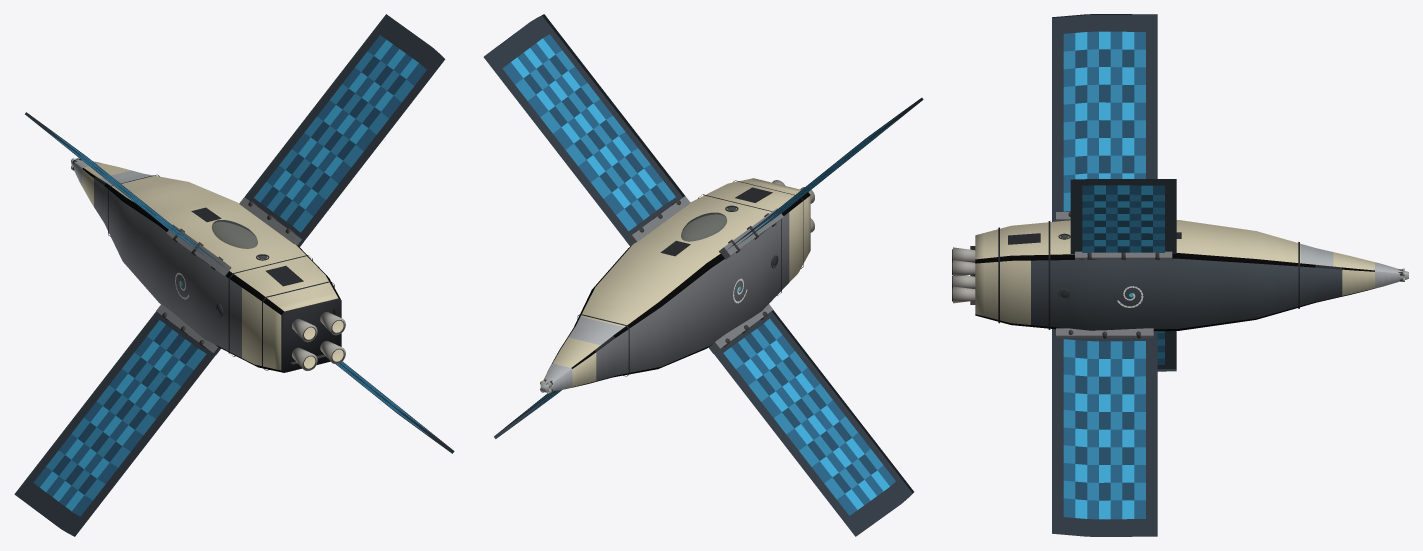
The model's file is Ship_Crosspanel_16.glb.
3 renders of one model, left to right at view 1: azimuth 30°, elevation 25°; view 2: azimuth 150°, elevation 25°; view 3: azimuth 270°, elevation 25°, orthographic. The views are drawn at different scales.
Visible parts, largest first — view 1: Fuselage_SquareBody, SolarPanelWing_TopRightRidge_RectangularPhotovoltaicGrid, SolarPanelWing_LowerLeftRidge_RectangularPhotovoltaicGrid, Nose_SquareTaperedForwardSection, SolarPanelWing_TopLeftRidge_RectangularPhotovoltaicGrid, Canopy_DorsalLowSquareBubble, SolarPanelWing_LowerRightRidge_RectangularPhotovoltaicGrid, SolarPanelWing_TopLeftRidge_RootHingeClamp, SolarPanelWing_TopRightRidge_RootHingeClamp, SolarPanelWing_LowerLeftRidge_RootHingeClamp; view 2: Fuselage_SquareBody, SolarPanelWing_TopRightRidge_RectangularPhotovoltaicGrid, SolarPanelWing_LowerLeftRidge_RectangularPhotovoltaicGrid, Nose_SquareTaperedForwardSection, SolarPanelWing_TopLeftRidge_RectangularPhotovoltaicGrid, Canopy_DorsalLowSquareBubble, SolarPanelWing_TopLeftRidge_RootHingeClamp, SolarPanelWing_TopRightRidge_RootHingeClamp, SolarPanelWing_LowerLeftRidge_RootHingeClamp; view 3: Fuselage_SquareBody, SolarPanelWing_LowerRightRidge_RectangularPhotovoltaicGrid, SolarPanelWing_TopLeftRidge_RectangularPhotovoltaicGrid, SolarPanelWing_TopRightRidge_RectangularPhotovoltaicGrid, Nose_SquareTaperedForwardSection, SolarPanelWing_LowerRightRidge_RootHingeClamp, SolarPanelWing_LowerLeftRidge_RectangularPhotovoltaicGrid, SolarPanelWing_TopRightRidge_RootHingeClamp.
Part boxes in pixels (x1=…): Fuselage_SquareBody: x1=104, y1=174, x2=341, y2=372; SolarPanelWing_TopRightRidge_RectangularPhotovoltaicGrid: x1=245, y1=14, x2=445, y2=247; SolarPanelWing_LowerLeftRidge_RectangularPhotovoltaicGrid: x1=14, y1=311, x2=220, y2=536; Nose_SquareTaperedForwardSection: x1=71, y1=158, x2=143, y2=222; SolarPanelWing_TopLeftRidge_RectangularPhotovoltaicGrid: x1=25, y1=112, x2=227, y2=269; Canopy_DorsalLowSquareBubble: x1=212, y1=220, x2=257, y2=248; SolarPanelWing_LowerRightRidge_RectangularPhotovoltaicGrid: x1=336, y1=361, x2=454, y2=453; SolarPanelWing_TopLeftRidge_RootHingeClamp: x1=166, y1=224, x2=231, y2=275; SolarPanelWing_TopRightRidge_RootHingeClamp: x1=239, y1=197, x2=303, y2=245; SolarPanelWing_LowerLeftRidge_RootHingeClamp: x1=156, y1=304, x2=220, y2=354; Fuselage_SquareBody: x1=574, y1=178, x2=810, y2=377; SolarPanelWing_TopRightRidge_RectangularPhotovoltaicGrid: x1=483, y1=14, x2=684, y2=246; SolarPanelWing_LowerLeftRidge_RectangularPhotovoltaicGrid: x1=709, y1=310, x2=913, y2=536; Nose_SquareTaperedForwardSection: x1=540, y1=326, x2=615, y2=392; SolarPanelWing_TopLeftRidge_RectangularPhotovoltaicGrid: x1=722, y1=97, x2=923, y2=253; Canopy_DorsalLowSquareBubble: x1=681, y1=212, x2=727, y2=241; SolarPanelWing_TopLeftRidge_RootHingeClamp: x1=719, y1=208, x2=783, y2=259; SolarPanelWing_TopRightRidge_RootHingeClamp: x1=625, y1=196, x2=690, y2=244; SolarPanelWing_LowerLeftRidge_RootHingeClamp: x1=709, y1=304, x2=773, y2=353; Fuselage_SquareBody: x1=975, y1=220, x2=1315, y2=331; SolarPanelWing_LowerRightRidge_RectangularPhotovoltaicGrid: x1=1052, y1=329, x2=1157, y2=536; SolarPanelWing_TopLeftRidge_RectangularPhotovoltaicGrid: x1=1052, y1=14, x2=1157, y2=221; SolarPanelWing_TopRightRidge_RectangularPhotovoltaicGrid: x1=1070, y1=179, x2=1176, y2=253; Nose_SquareTaperedForwardSection: x1=1315, y1=248, x2=1408, y2=302; SolarPanelWing_LowerRightRidge_RootHingeClamp: x1=1056, y1=328, x2=1153, y2=337; SolarPanelWing_LowerLeftRidge_RectangularPhotovoltaicGrid: x1=1157, y1=331, x2=1176, y2=371; SolarPanelWing_TopRightRidge_RootHingeClamp: x1=1075, y1=251, x2=1172, y2=260.
Bounding box in the file's own units: 6.92 × 6.93 × 8.01.
